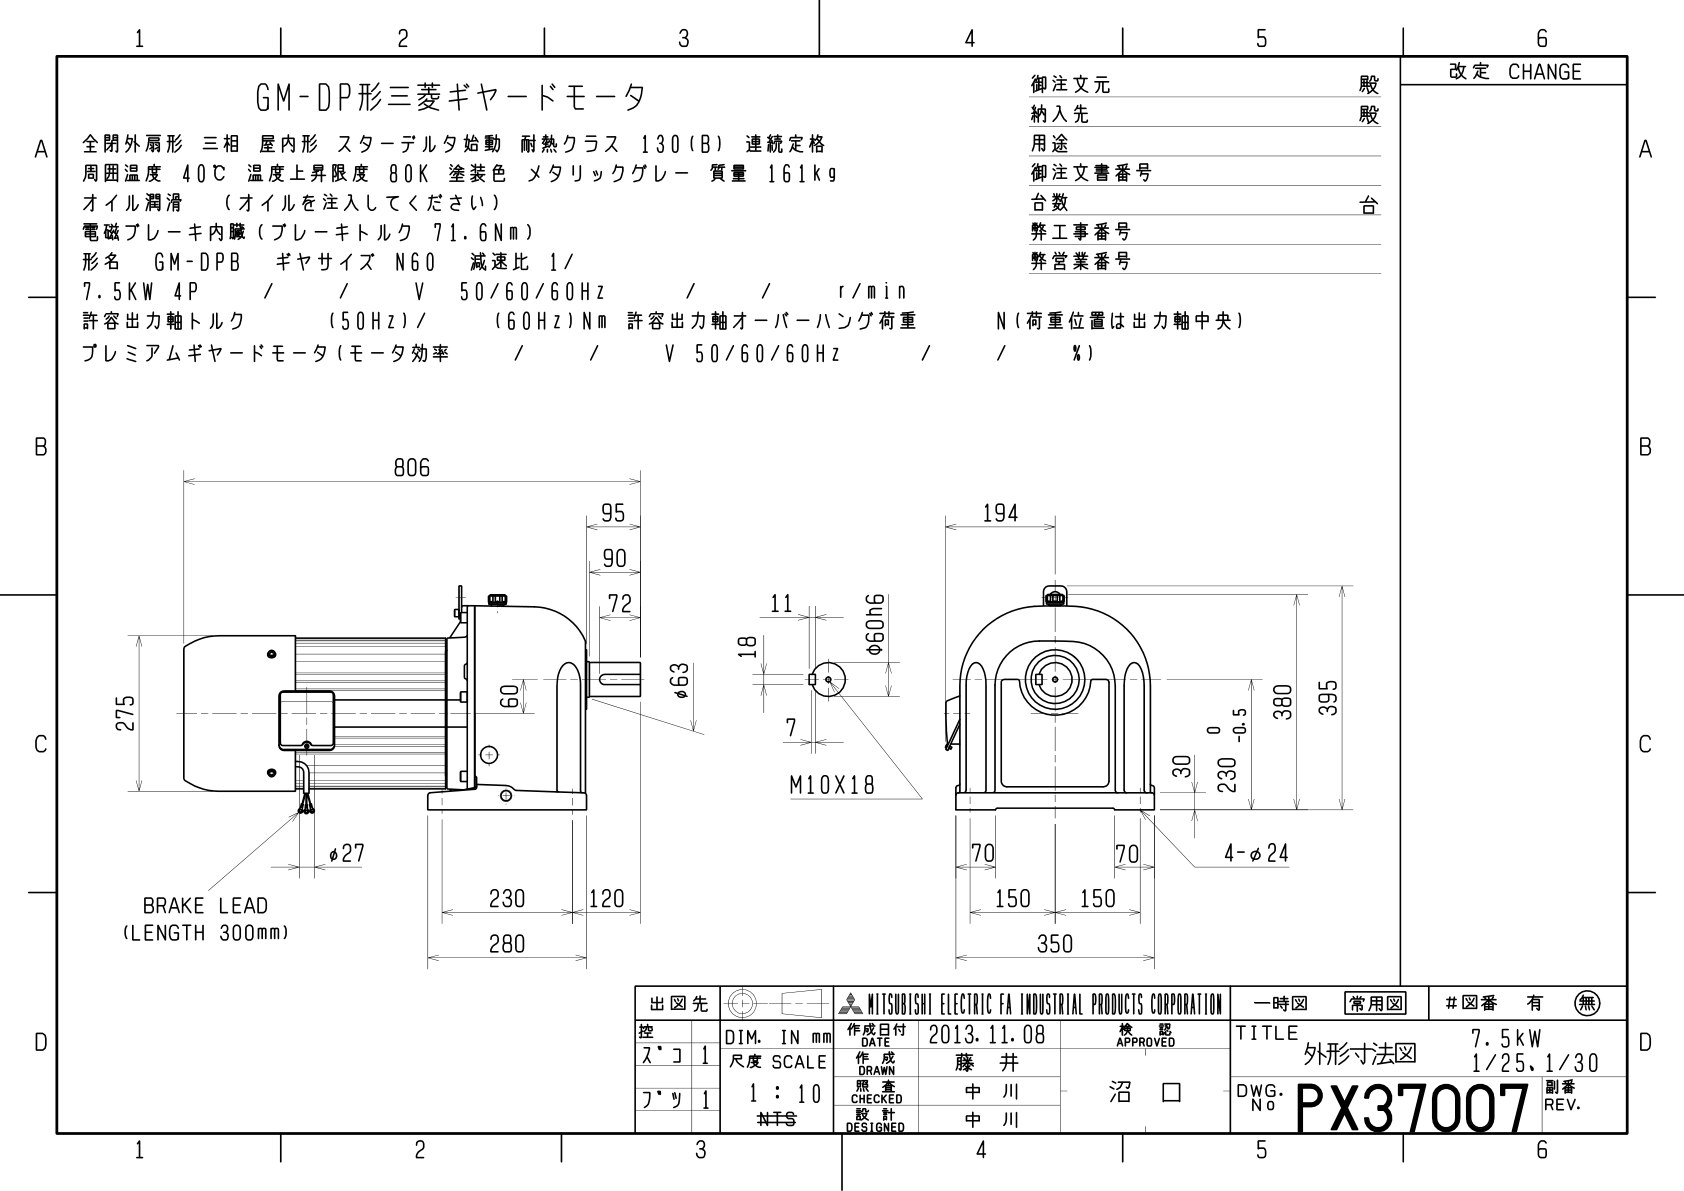GM_DP_屋内_三相_脚: (79, 424, 1385, 978)
